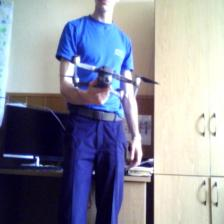drone: (60, 53, 162, 107)
